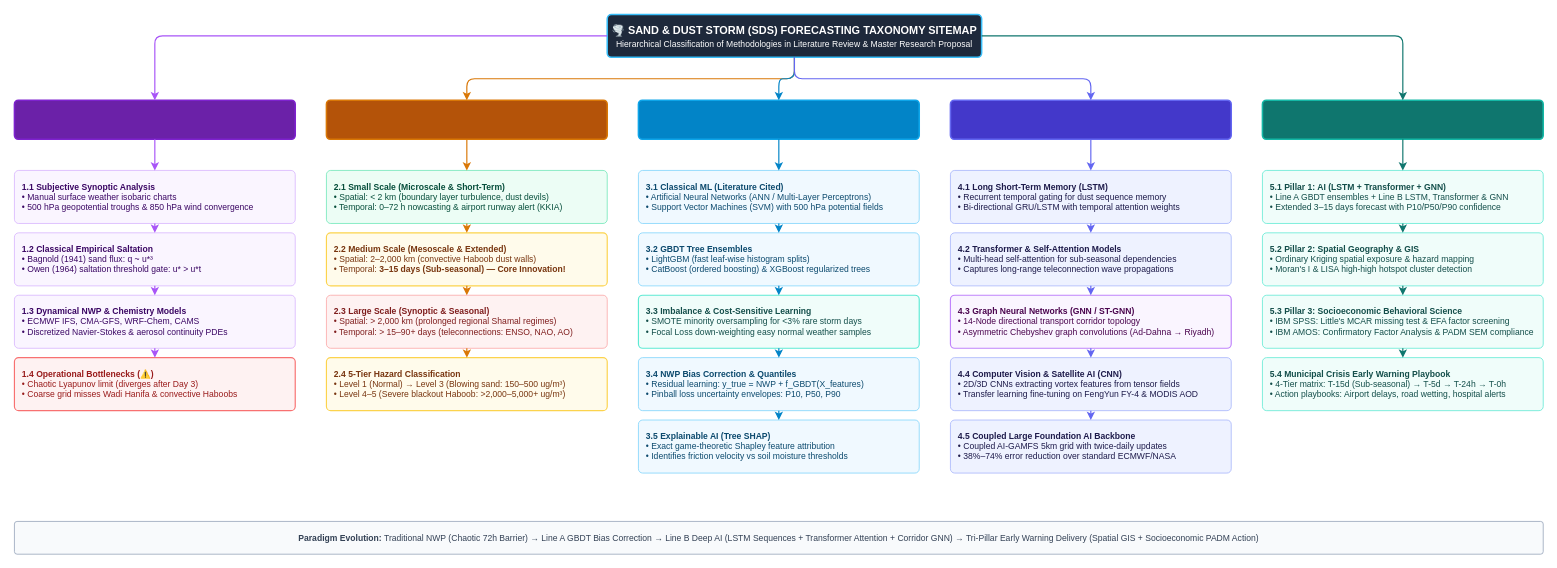
This 1557x568 diagram has some shape labels left out. Each missing label, with the box of its shape:
⚖️ 2. MULTI-SCALE SYSTEM Small, Medium & Large Scales: (325, 99, 608, 140)
🔮 4. DEEP LEARNING (LINE B) LSTM, Transformer & GNN Models: (949, 99, 1232, 140)
🔵 3. MACHINE LEARNING (LINE A) Tree Ensembles & Bias Correction: (637, 99, 920, 140)
🟣 1. TRADITIONAL METHODS Synoptic, Empirical & NWP/CTM: (13, 99, 296, 140)
🩵 5. WHAT SHE USES (TRI-PILLAR) AI (LSTM/Transformer/GNN) + GIS + SEM: (1261, 99, 1544, 140)
